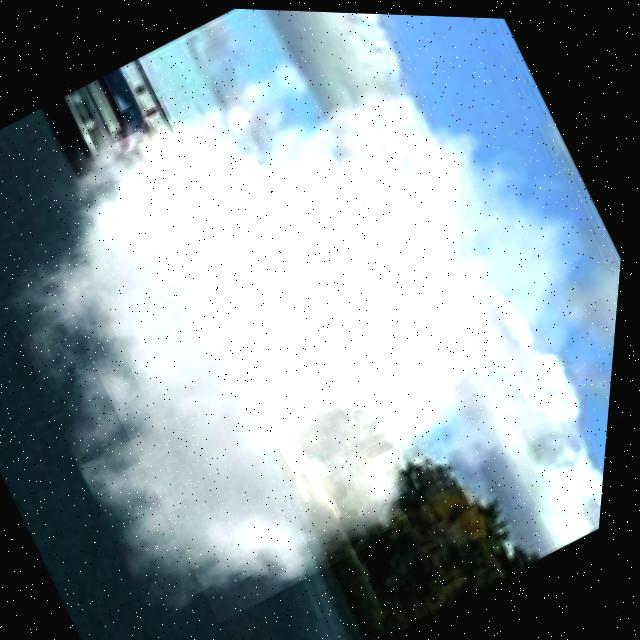Smoke: (0, 9, 624, 640)
